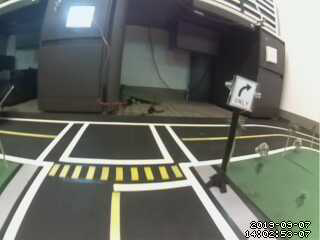Right_only_sign: (230, 72, 254, 117)
